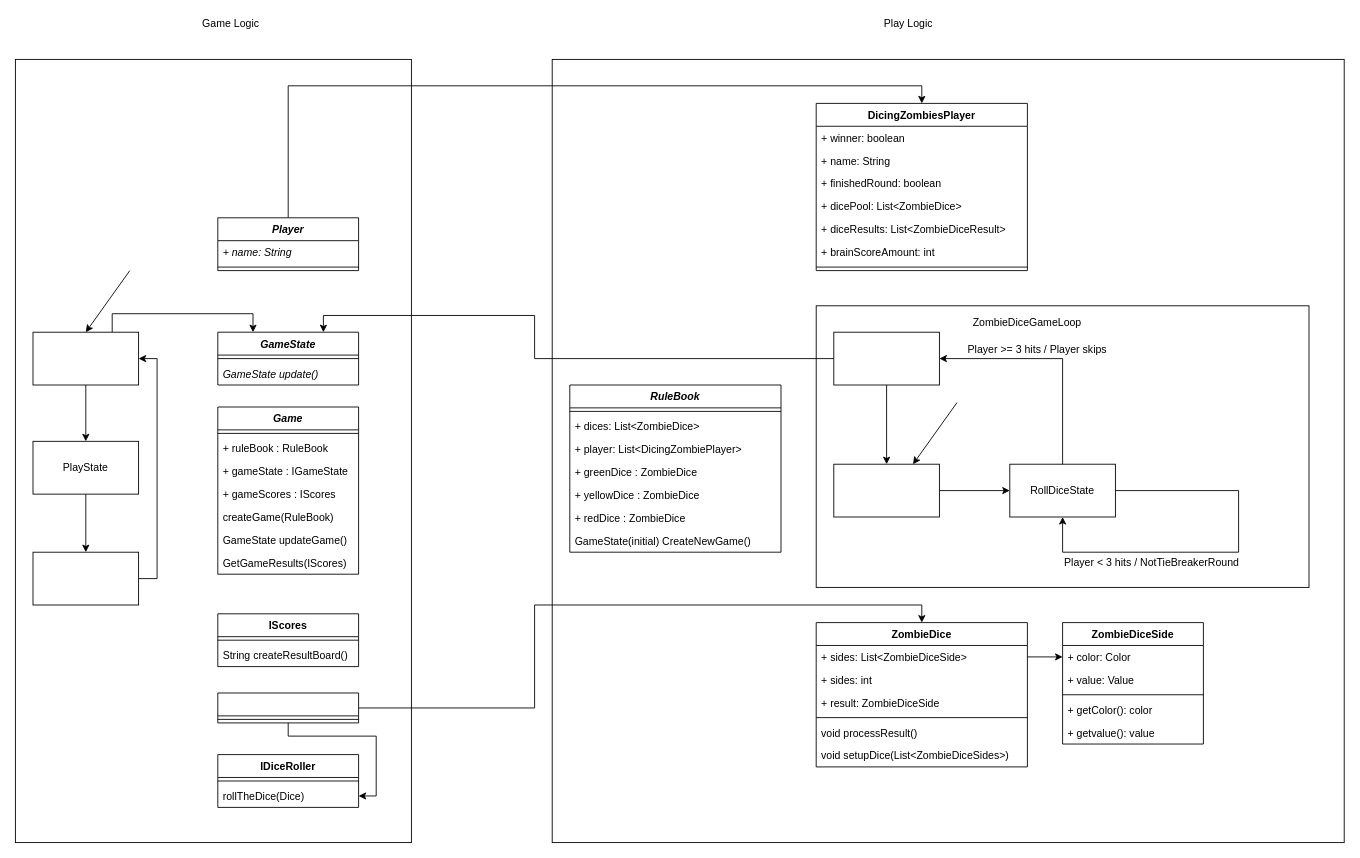
Image size: 1360x858. Some labels were removed from this diagram. The shapes that lost their labels are listed below. From the top down, each one's centre as x and y in pixels, then its label:
At point 85,358: "SetupState".
At point 886,358: "EndTurnState".
At point 886,490: "SwitchPlayerState".
At point 85,578: "EndState".
At point 288,707: "Dice".
